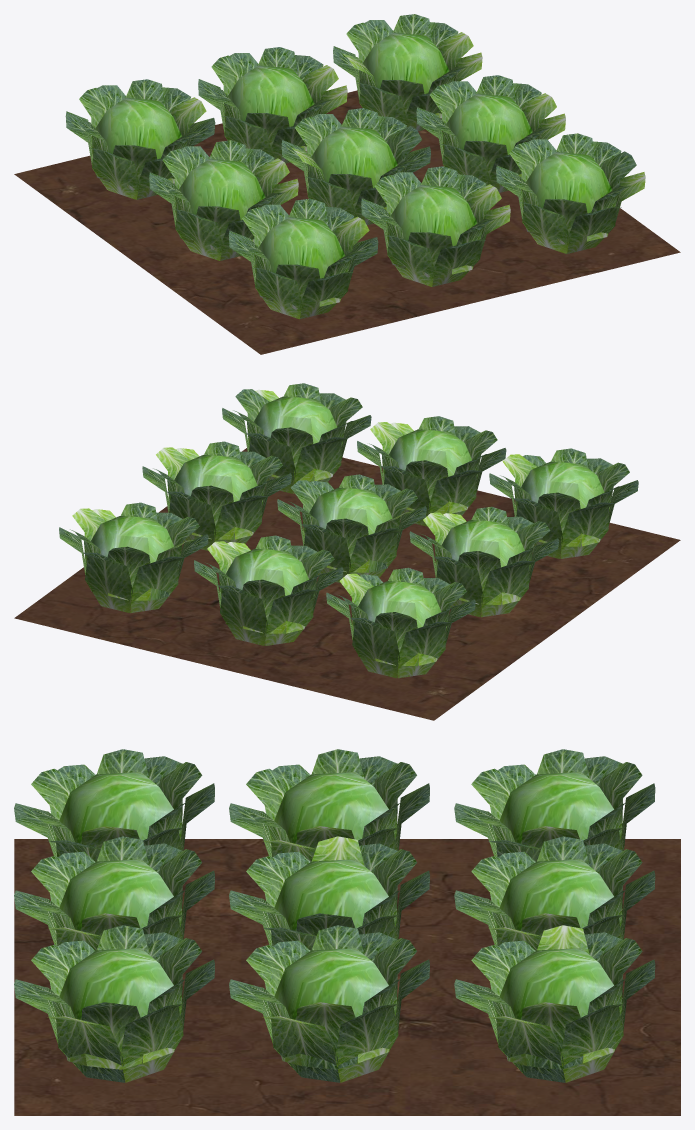
File: FRM0110016.fbx
The picture shows the model from 3 angles, top to bottom: view 1: azimuth 30°, elevation 25°; view 2: azimuth 150°, elevation 25°; view 3: azimuth 270°, elevation 25°; orthographic projection. The views are drawn at different scales.
Visible parts, largest first — view 1: smFRM0110016; view 2: smFRM0110016; view 3: smFRM0110016.
Boxes of the visible parts, left/top/right/bottom form: smFRM0110016: left=14, top=14, right=680, bottom=354; smFRM0110016: left=14, top=383, right=680, bottom=720; smFRM0110016: left=14, top=749, right=680, bottom=1115.
Size of the model in its own units: 121 by 23.4 by 123.
Materials: 1 (1 with a texture image).
